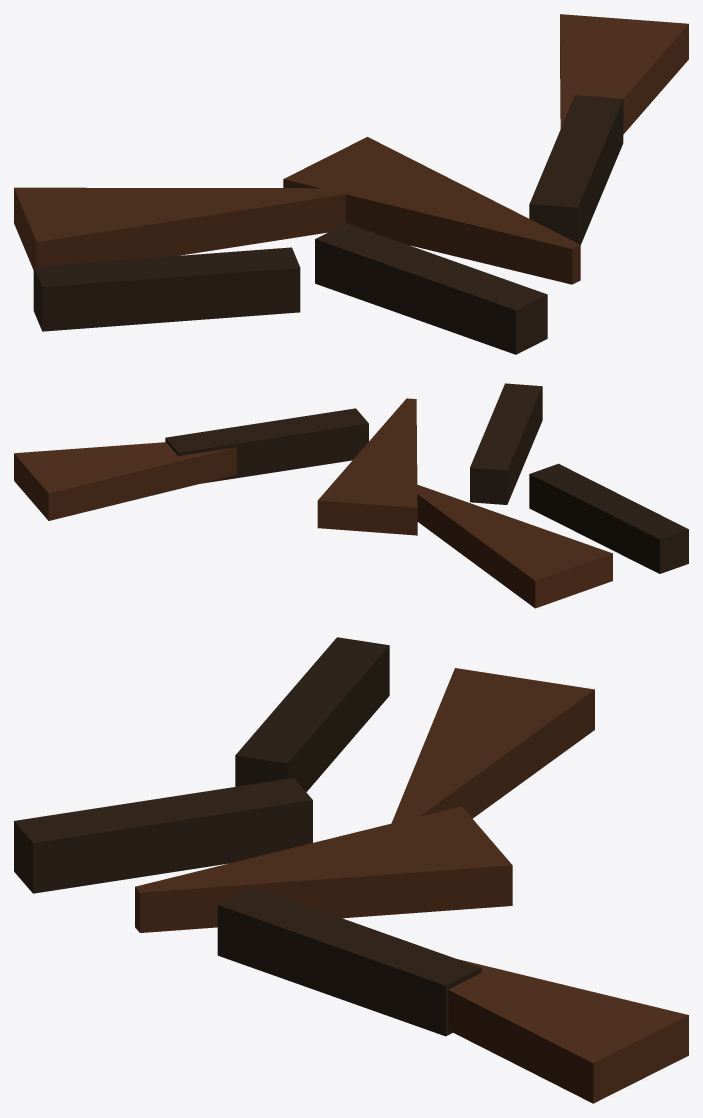
The model's file is bent_arrowhead.glb.
3 views of the same model, one above another, from view 1: azimuth 30°, elevation 25°; view 2: azimuth 150°, elevation 25°; view 3: azimuth 270°, elevation 25° (orthographic). The views are drawn at different scales.
Visible parts, largest first — view 1: BentArrowhead; view 2: BentArrowhead; view 3: BentArrowhead.
Part boxes in pixels (box(x1,y1,x2,y2)): BentArrowhead: box(14, 14, 688, 354); BentArrowhead: box(14, 383, 688, 608); BentArrowhead: box(14, 637, 688, 1103).
Size of the model in its own units: 0.2676 by 0.015 by 0.1813.
